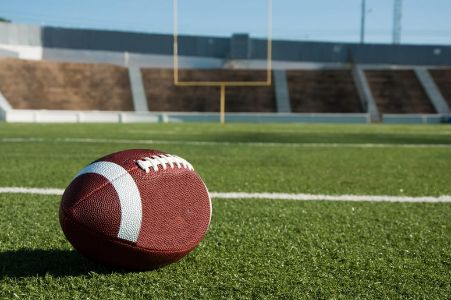futbol americano: (59, 149, 212, 269)
